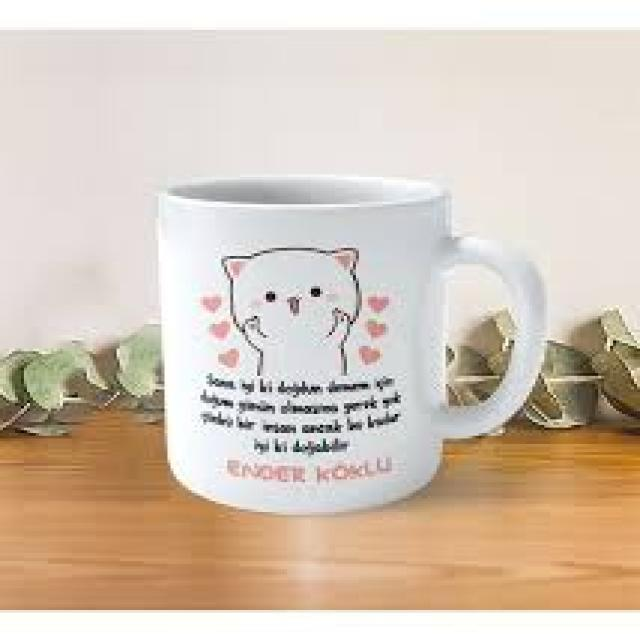taza: (154, 172, 548, 514)
